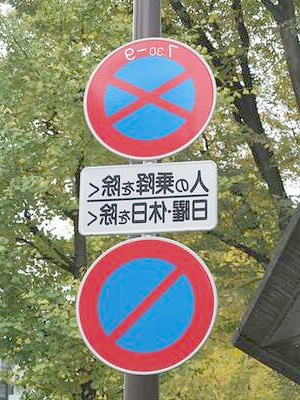Prohibition_sign: (70, 246, 222, 381), (80, 36, 229, 167)
